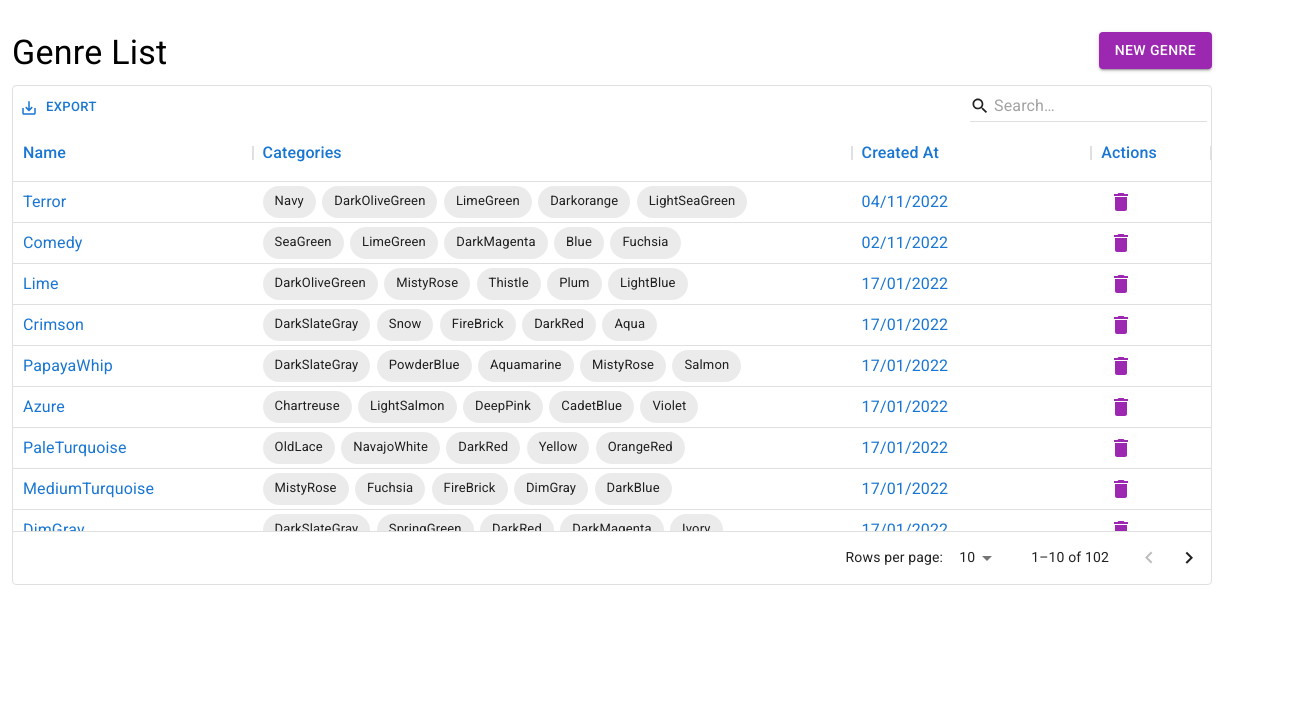
Test case: GenreList › should handle on page change
Expected: the text "Terror" is shown, x1=23 y1=190 x2=66 y2=214
What coordinates should you click on to do the following:
click the button with test id "KeyboardArrowRightIcon"
I would click on:
 (1189, 558)
Its box is x1=1169 y1=538 x2=1209 y2=578.
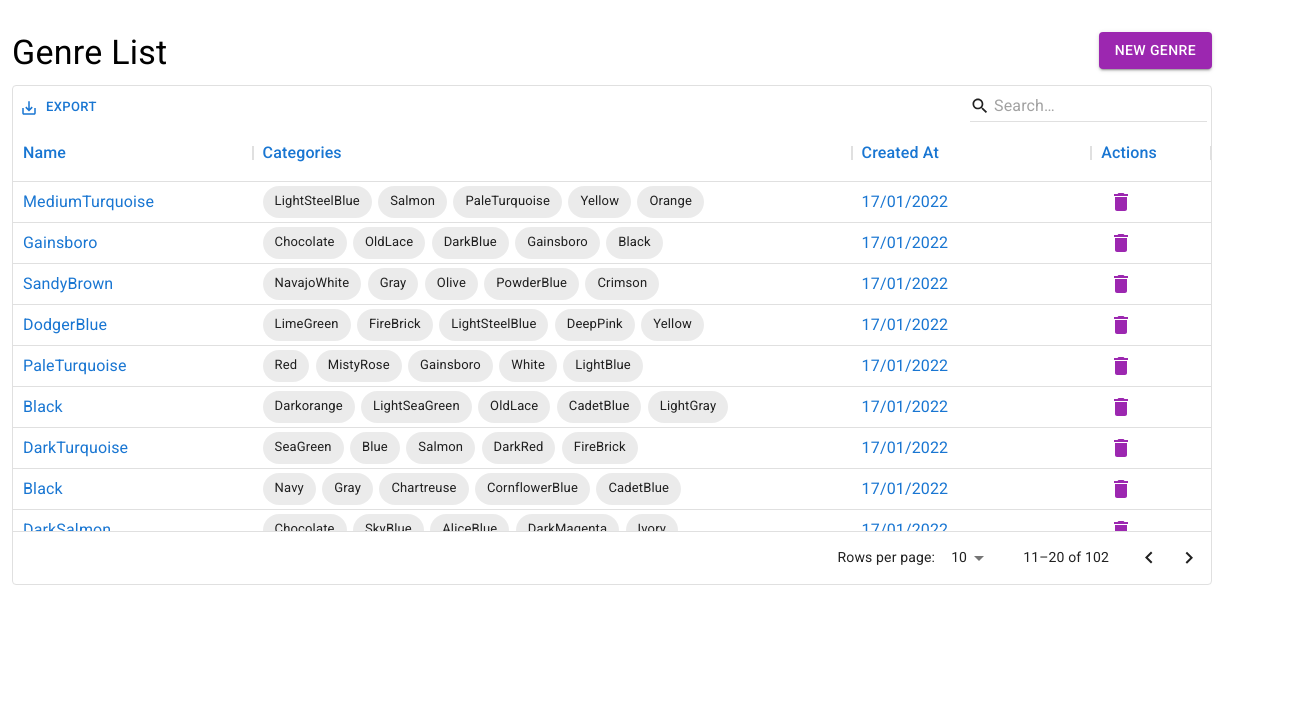
Expected: the text "MediumTurquoise" is shown, x1=23 y1=190 x2=154 y2=214
